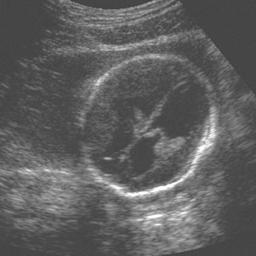abnormal: (84, 50, 222, 198)
